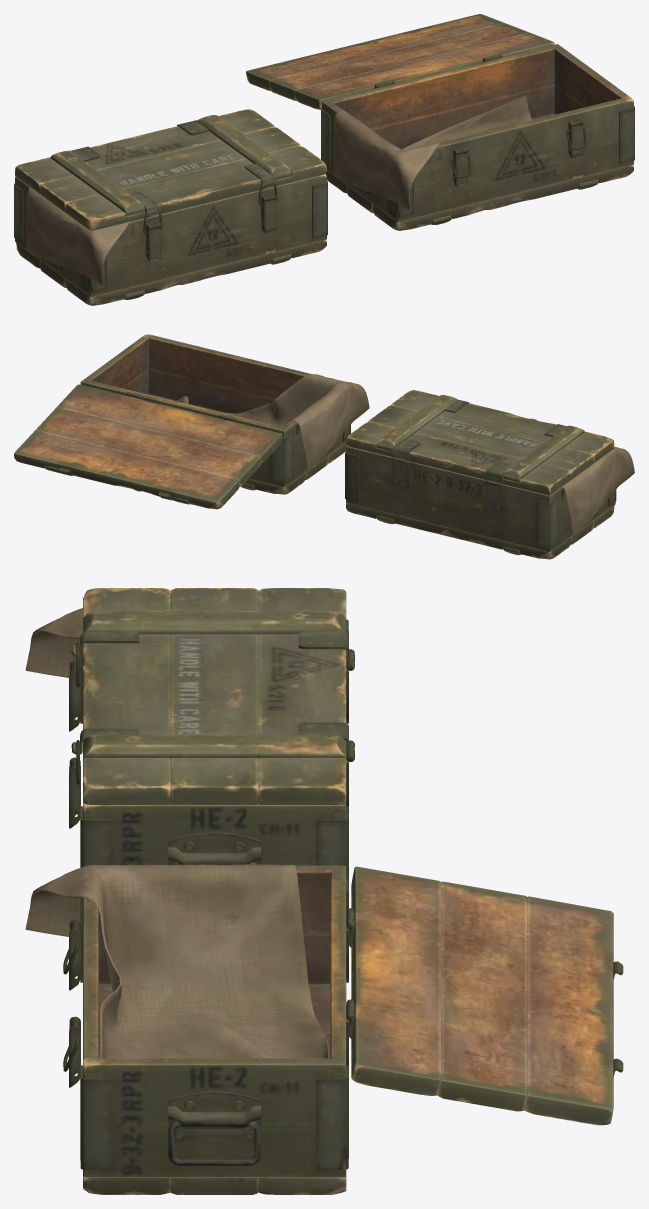
The model's file is old_military_crate.glb.
The picture shows the model from 3 angles, top to bottom: view 1: azimuth 30°, elevation 25°; view 2: azimuth 150°, elevation 25°; view 3: azimuth 270°, elevation 25°; orthographic projection. The views are drawn at different scales.
Visible parts, largest first — view 1: old_military_crate_lid_a; view 2: old_military_crate_lid_a; view 3: old_military_crate_lid_a.
Part boxes in pixels (x1=…): old_military_crate_lid_a: x1=14, y1=14, x2=634, y2=305; old_military_crate_lid_a: x1=14, y1=334, x2=634, y2=559; old_military_crate_lid_a: x1=25, y1=588, x2=623, y2=1194.
Size of the model in its own units: 1.82 by 0.3009 by 0.9756.
Materials: 1 (1 with a texture image).
